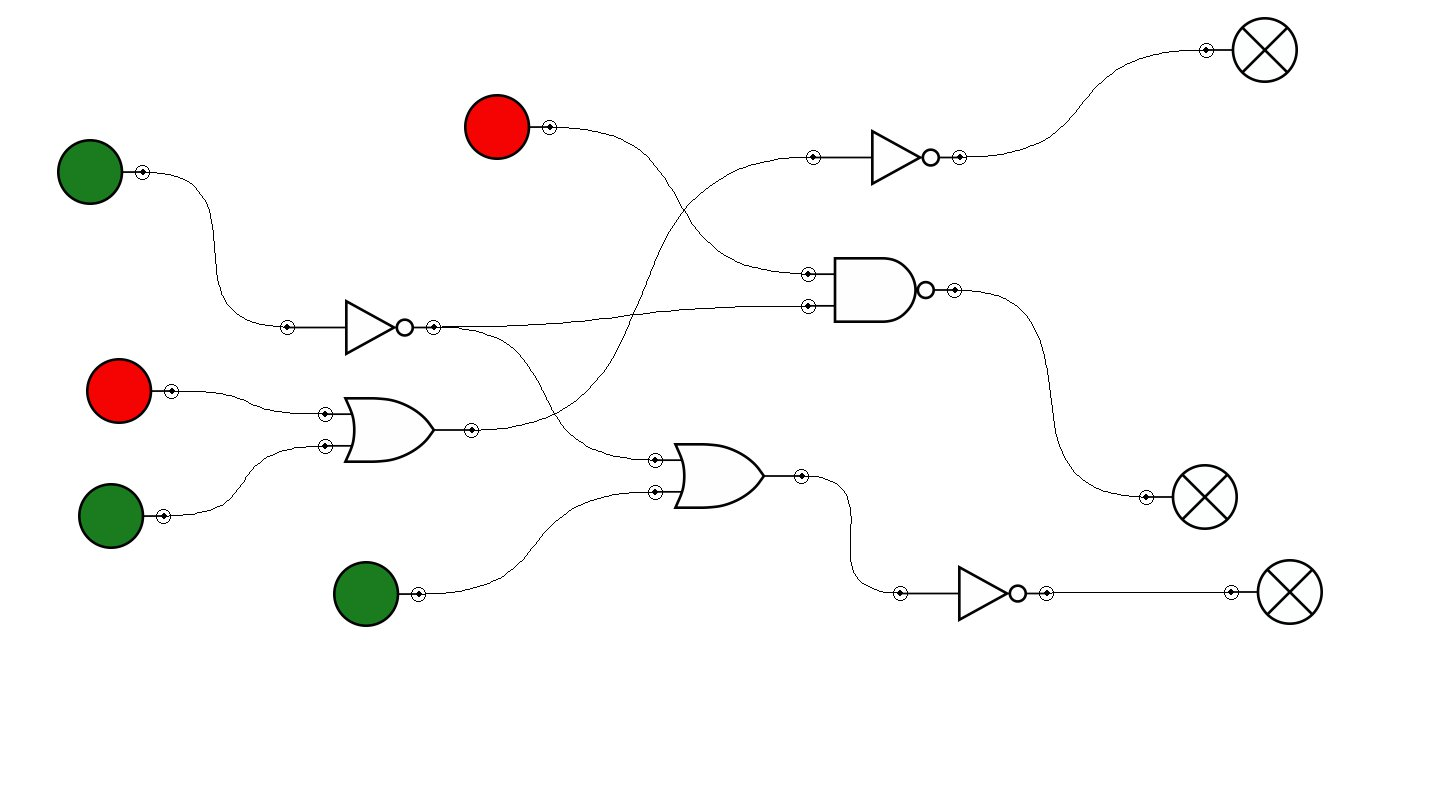bulb: (1224, 559, 1323, 625), (1199, 17, 1298, 83), (1139, 464, 1238, 530)
nand: (801, 257, 962, 323)
not: (893, 565, 1054, 622), (806, 129, 967, 186), (280, 299, 441, 356)
or: (648, 443, 809, 509), (318, 397, 479, 463)
switch_False: (464, 94, 557, 160), (86, 358, 179, 424)
switch_True: (78, 483, 171, 549), (333, 561, 426, 627), (57, 139, 150, 205)
